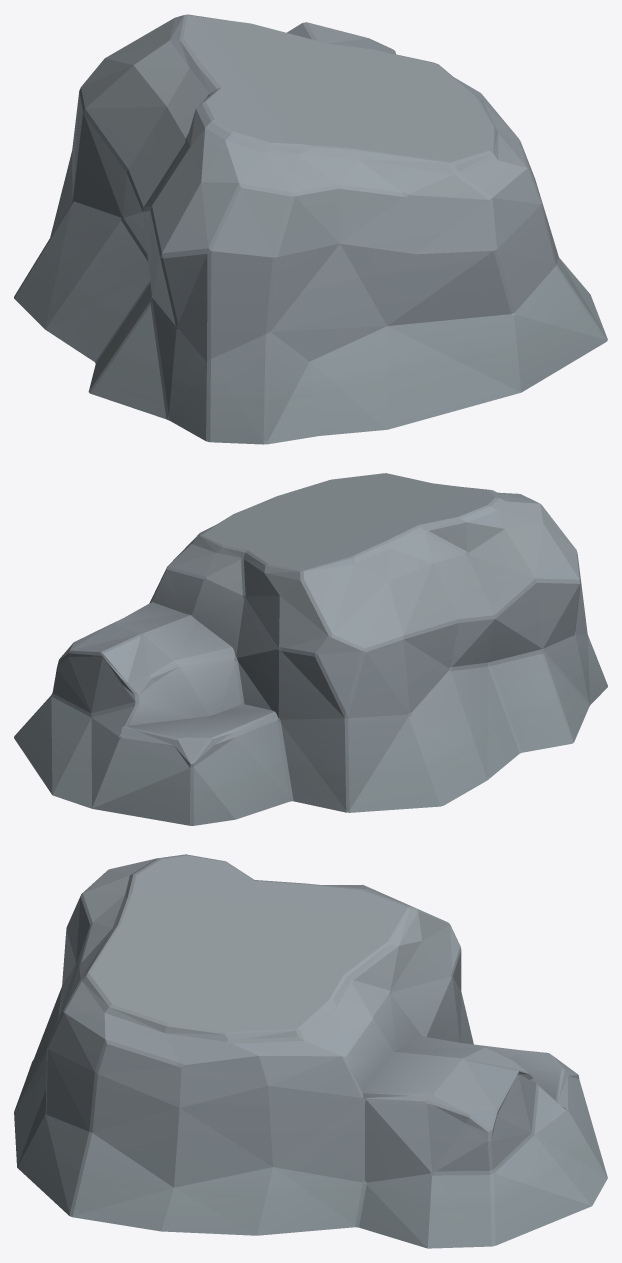
The model's file is rock_lump.glb.
3 renders of one model, top to bottom at view 1: azimuth 30°, elevation 25°; view 2: azimuth 150°, elevation 25°; view 3: azimuth 270°, elevation 25°, orthographic. The views are drawn at different scales.
Parts seen in each view (by area): view 1: Rock_19_1_A; view 2: Rock_19_1_A; view 3: Rock_19_1_A.
Part boxes in pixels (bbox=[...]): Rock_19_1_A: bbox=[14, 14, 607, 444]; Rock_19_1_A: bbox=[14, 473, 607, 825]; Rock_19_1_A: bbox=[14, 854, 607, 1248].
Bounding box in the file's own units: 2.11 × 1 × 2.4.
1 material, 1 textured.
